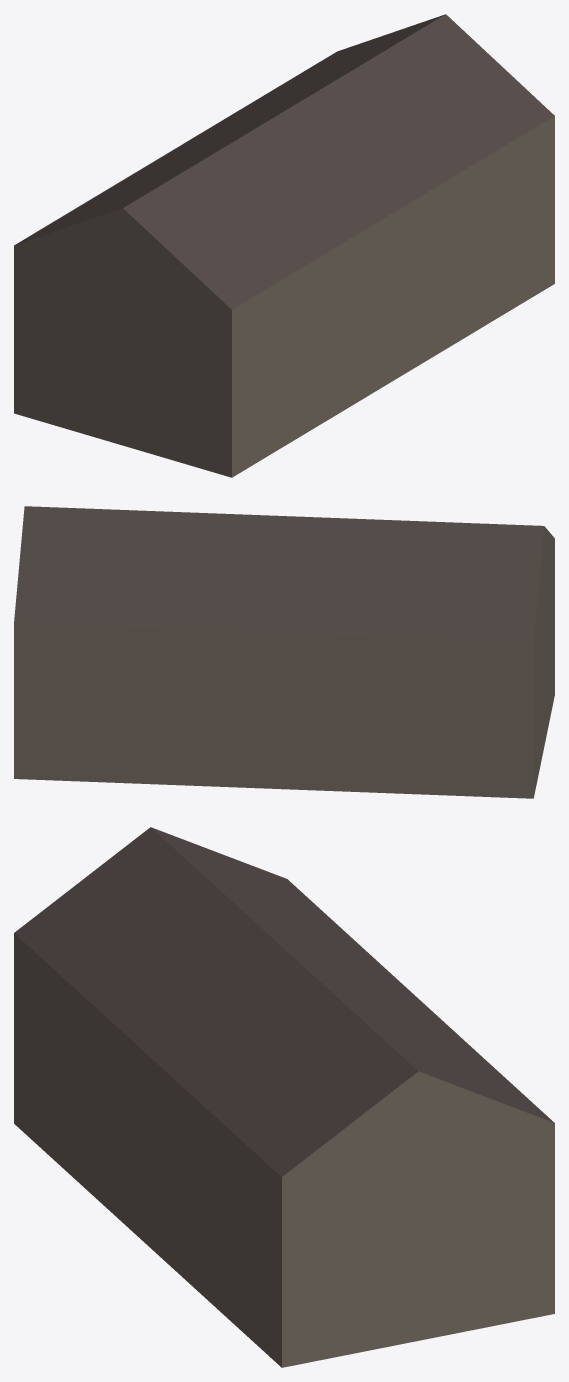
3 renders of one model, top to bottom at view 1: azimuth 30°, elevation 25°; view 2: azimuth 150°, elevation 25°; view 3: azimuth 270°, elevation 25°, orthographic. The views are drawn at different scales.
Visible parts, largest first — view 1: HP-w859488737; view 2: HP-w859488737; view 3: HP-w859488737.
Part boxes in pixels (x1,y1,x2,y2): HP-w859488737: [14, 14, 554, 477]; HP-w859488737: [14, 506, 554, 798]; HP-w859488737: [14, 827, 554, 1367].
Size of the model in its own units: 30.21 by 12.73 by 23.15.
